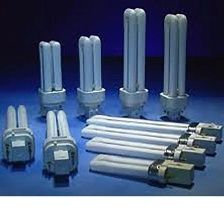light_bulb: (84, 152, 190, 190), (84, 134, 197, 169), (79, 121, 201, 153), (116, 4, 150, 116), (157, 11, 191, 116), (36, 108, 83, 183), (83, 111, 216, 137), (72, 29, 109, 119), (31, 37, 70, 117), (0, 99, 36, 166)
